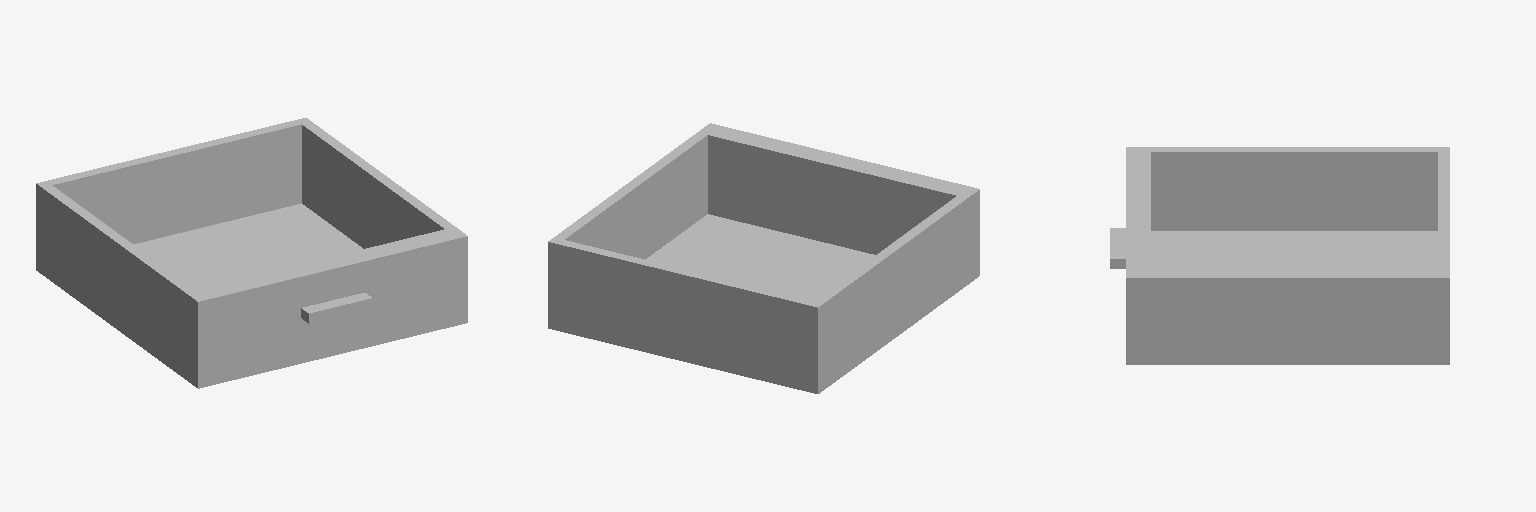
Rendered from new_drawer_1.obj.
The picture shows the model from 3 angles: view 1: azimuth 30°, elevation 25°; view 2: azimuth 150°, elevation 25°; view 3: azimuth 270°, elevation 25°; orthographic projection.
Visible parts, largest first — view 1: Props_BedsideTable_Drawer; view 2: Props_BedsideTable_Drawer; view 3: Props_BedsideTable_Drawer.
Boxes of the visible parts, x1,y1,x2,y2 form: Props_BedsideTable_Drawer: [36, 118, 467, 388]; Props_BedsideTable_Drawer: [548, 123, 979, 393]; Props_BedsideTable_Drawer: [1110, 147, 1449, 364].
Size of the model in its own units: 0.4605 by 0.1415 by 0.5013.